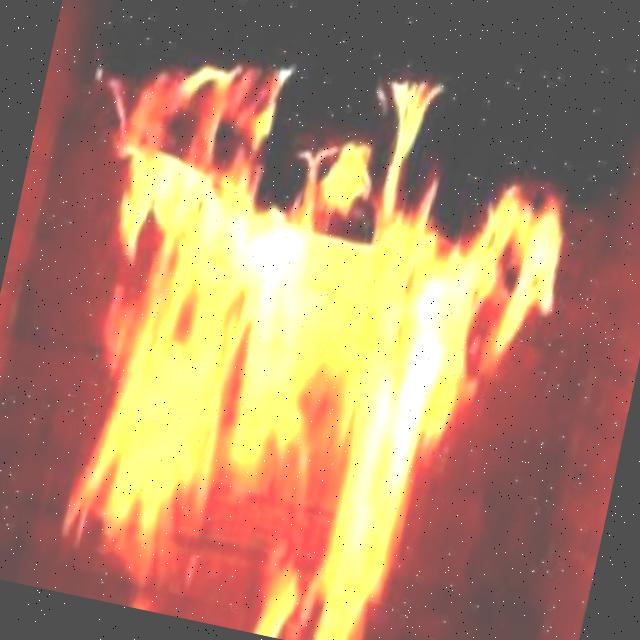fire: (33, 80, 592, 636)
